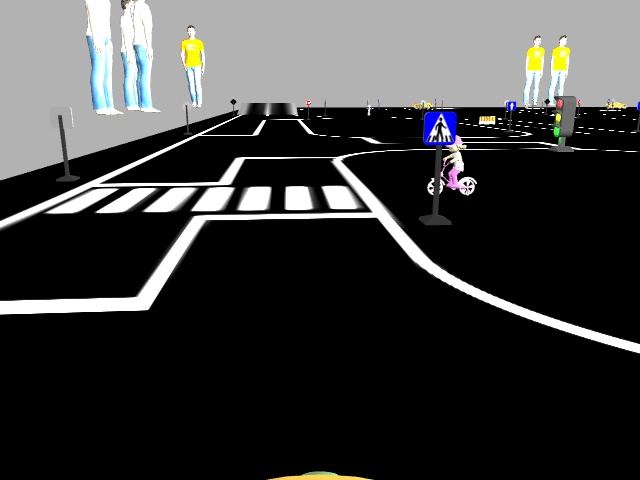Crosswalk: (422, 109, 456, 145)
Pedestrian: (426, 132, 477, 197)
TrafficLight: (550, 96, 577, 137)
